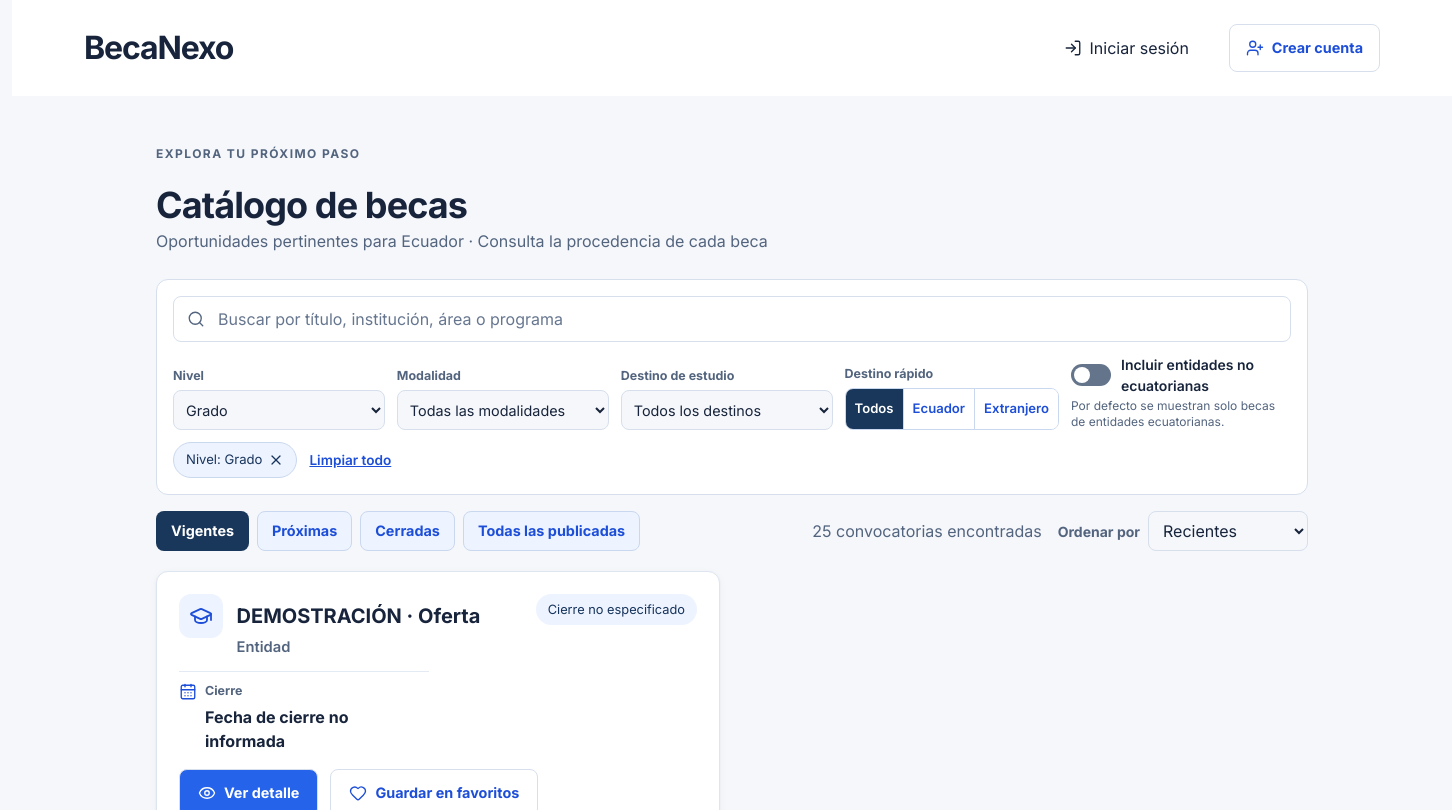
Test case: ordena inmediatamente, vuelve a página uno y conserva filtros aplicados
This screenshot has width=1452, height=810.
Select "Fecha de cierre" in the dropdown labelled "Ordenar por" at (1228, 531), box [1148,511,1308,551]
(page scrolled)
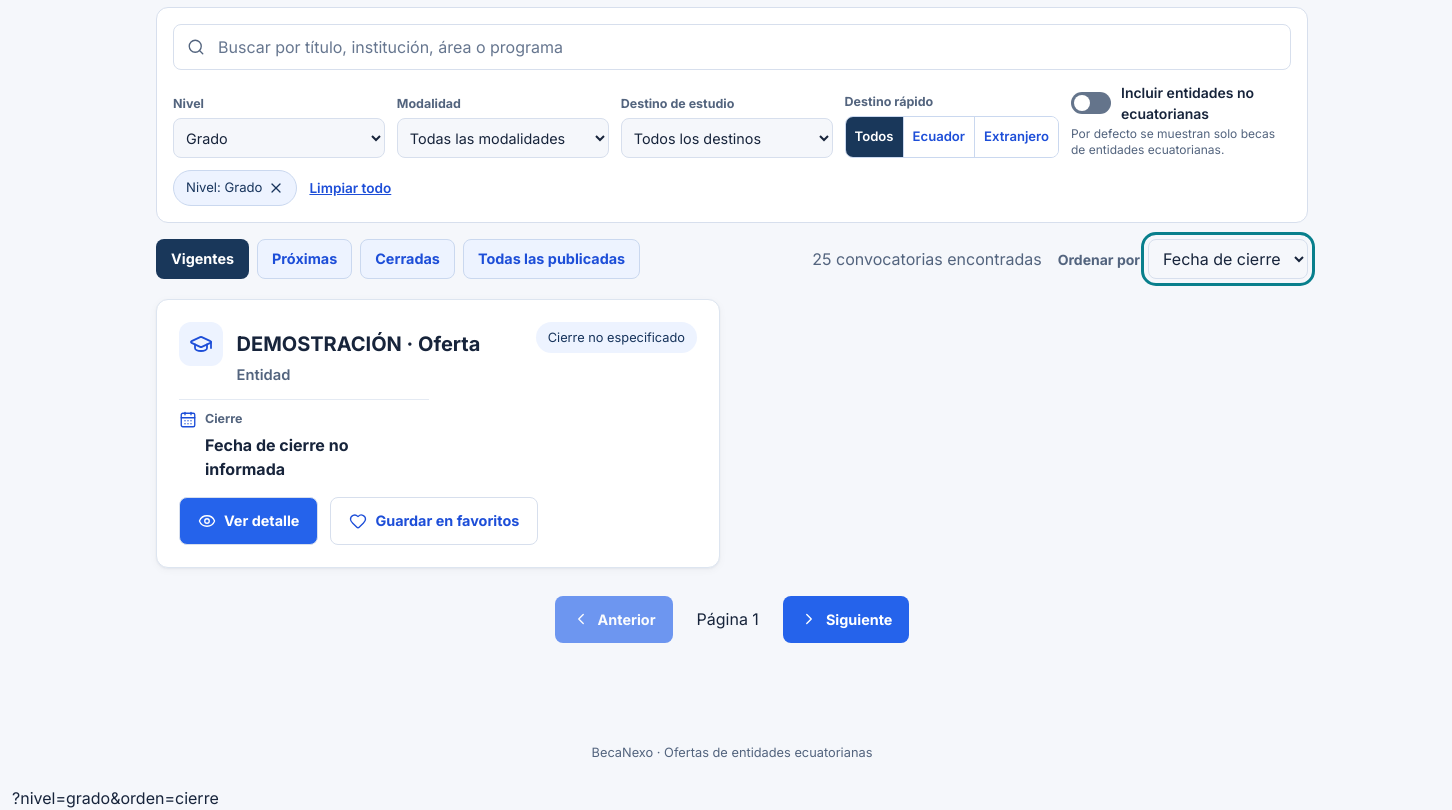
Expected: the text with test id "url" shows "nivel=grado", [12,788,219,808]
Expected: the element with test id "url" does not show "page="
Click the button "Siguiente" at (846, 619), box [783,596,909,643]
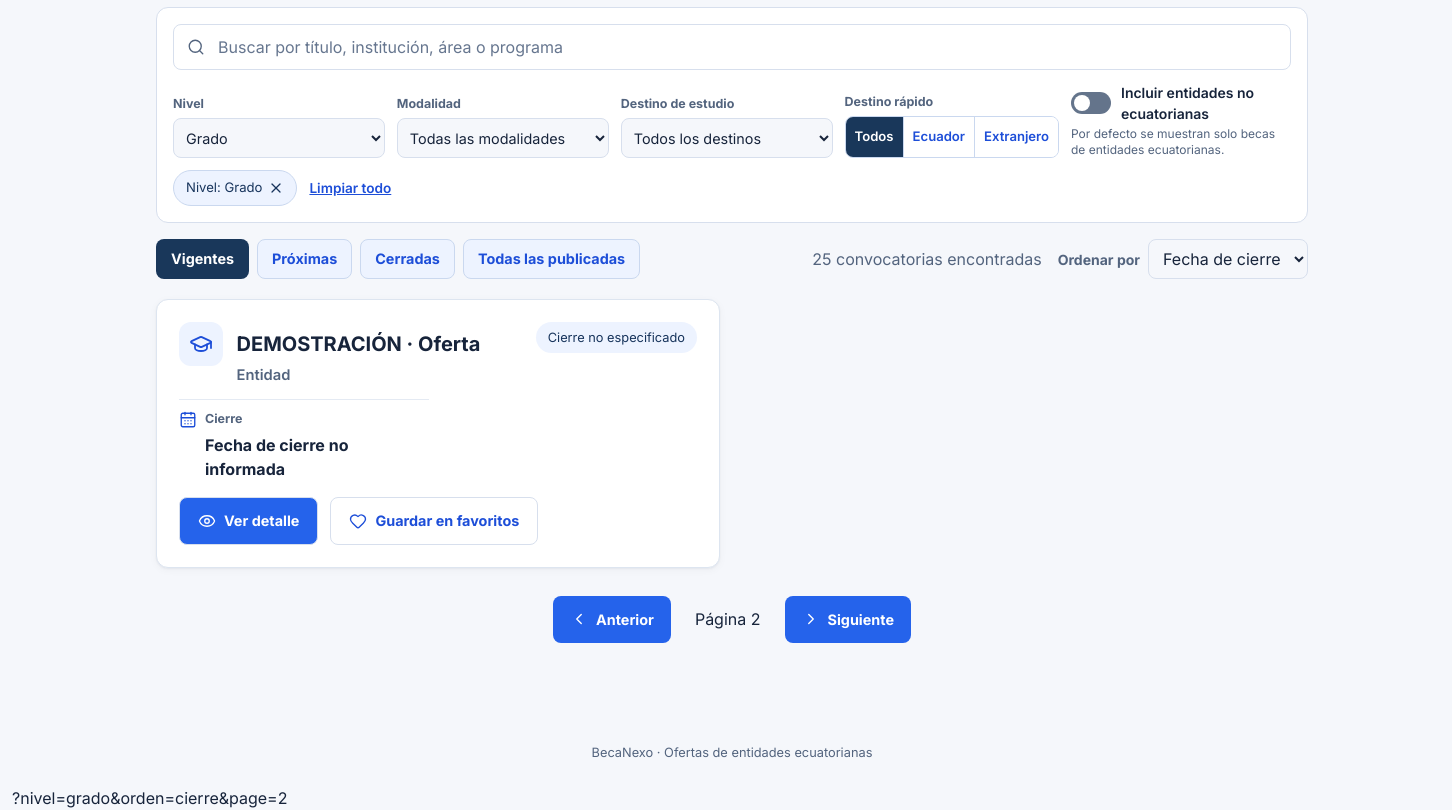
Expected: the text with test id "url" shows "page=2", [12,788,287,808]
